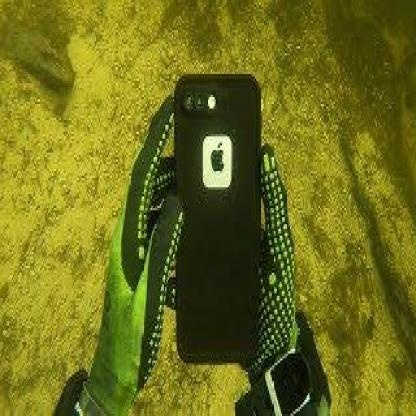cellphone: (173, 72, 264, 362)
